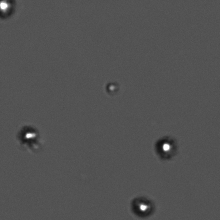Living Cell: (124, 194, 158, 217), (154, 133, 178, 161), (17, 123, 42, 145), (1, 1, 19, 21)
